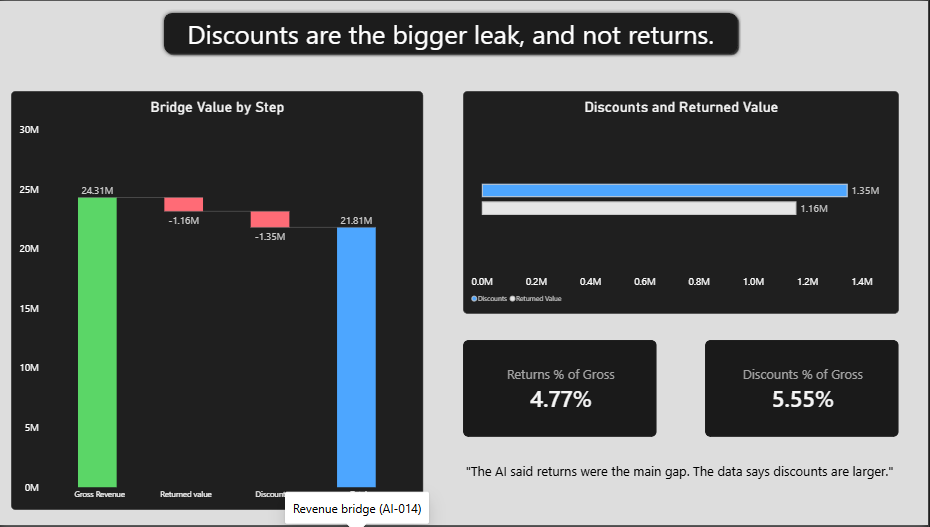

The dashboard page shown, as its layout file describes it:
{"tool":"powerbi","page":{"name":"Revenue bridge (AI-014)","canvas":[1920,1080],"ordinal":1},"visuals":[{"type":"waterfallChart","fields":{"Category":["Bridge.Step"],"Y":["Bridge.Bridge Value"]},"box":[26.8,185.8,850.6,865],"z":0},{"type":"cardVisual","fields":{"Data":["Calculated_Measures.Discounts % of Gross"]},"box":[1459.6,699.9,400,200],"z":1000},{"type":"cardVisual","fields":{"Data":["Calculated_Measures.Returns % of Gross"]},"box":[960,699.9,400,200],"z":2000},{"type":"clusteredBarChart","fields":{"Y":["Calculated_Measures.Discounts","Calculated_Measures.Returned Value"]},"box":[960,185.8,900,460],"z":3000},{"type":"textbox","box":[960,951.7,893.9,99.1],"z":4000},{"type":"shape","box":[334.5,16.5,1200,100],"z":5000}]}

Visuals, with their boxes on the page's 1920x1080 design canvas (x1, y1, x2, y2). These are canvas units, not pixel positions in the 930x527 screenshot, which may show the page scaled, cropped or inside an application window:
waterfallChart - Bridge.Step x Bridge.Bridge Value: x1=27 y1=186 x2=877 y2=1051
cardVisual - Calculated_Measures.Discounts % of Gross: x1=1460 y1=700 x2=1860 y2=900
cardVisual - Calculated_Measures.Returns % of Gross: x1=960 y1=700 x2=1360 y2=900
clusteredBarChart - Calculated_Measures.Discounts x Calculated_Measures.Returned Value: x1=960 y1=186 x2=1860 y2=646
textbox: x1=960 y1=952 x2=1854 y2=1051
shape: x1=334 y1=16 x2=1534 y2=116
